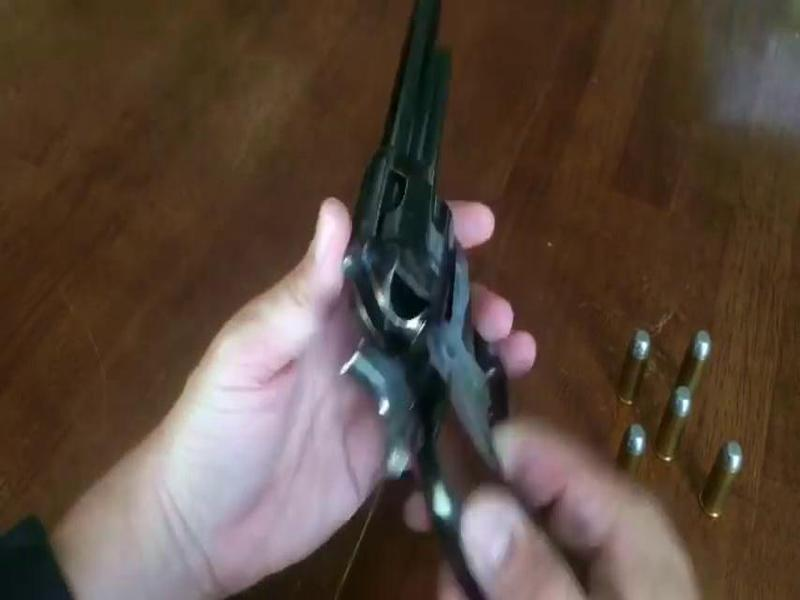Revolver: (320, 9, 567, 566)
